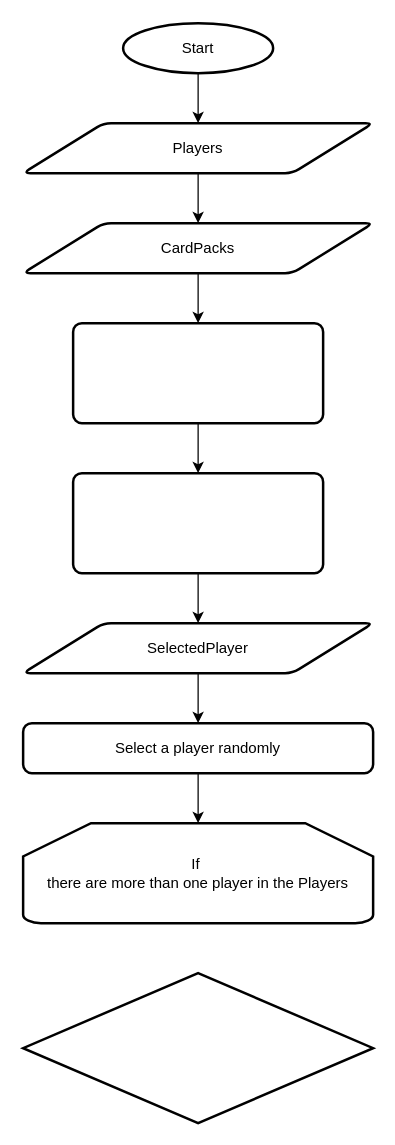
Image size: 395x1145. Some labels were removed from this diagram. The shapes that lost their labels are listed below. From the top down, each one's centre as x and y in pixels, then its label:
pixel 197 372: Shuffle all the card packs
pixel 197 522: Hand out cards of the shuffled packs among players
pixel 197 1047: If the selected player has cards
